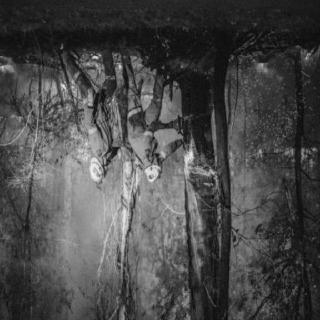Fire: (82, 49, 104, 74)
